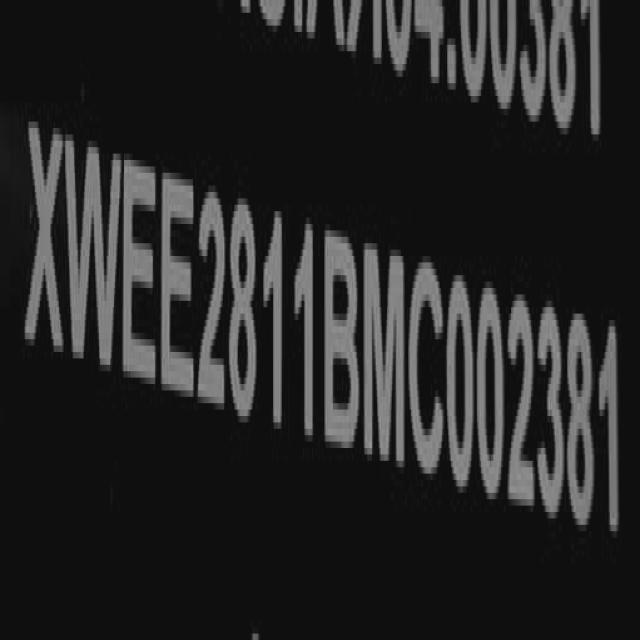0: (449, 268, 476, 494), (478, 280, 504, 506)
1: (264, 199, 288, 440), (296, 217, 318, 452), (601, 314, 621, 540)
2: (199, 180, 228, 420), (508, 294, 536, 518)
3: (540, 296, 566, 523)
8: (230, 193, 258, 427), (568, 306, 595, 532)
B: (324, 221, 360, 462)
C: (411, 251, 447, 488)
E: (124, 150, 160, 402), (160, 166, 197, 410)
M: (366, 237, 409, 480)
W: (67, 118, 122, 386)
X: (26, 110, 68, 372)
